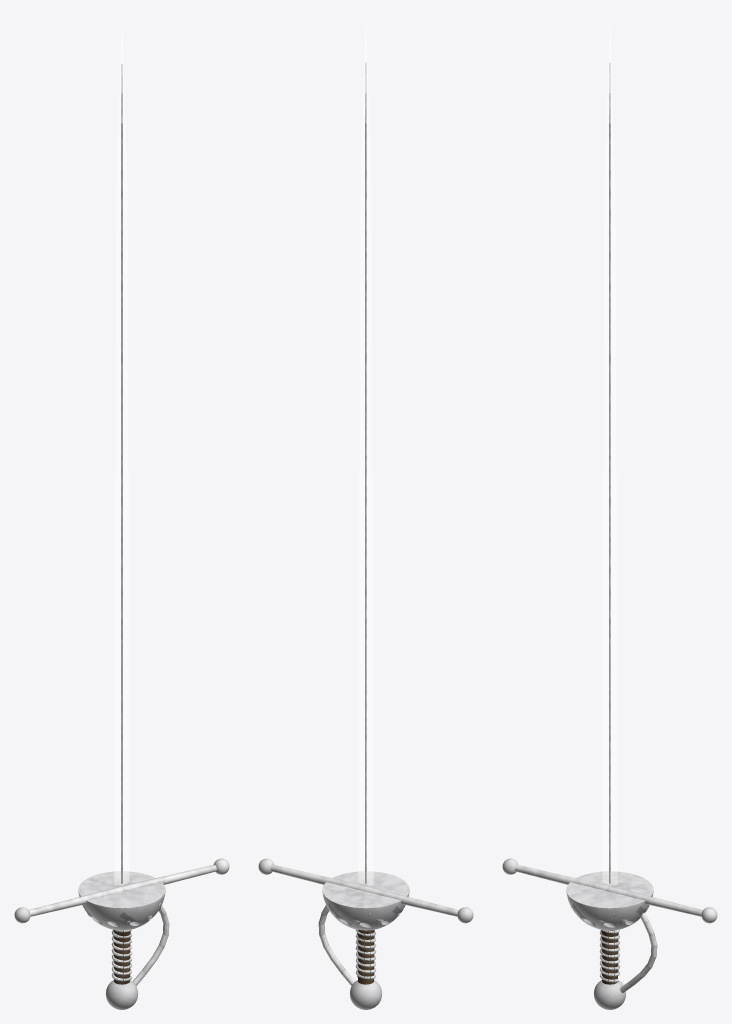
3 views of the same model, side by side, from view 1: azimuth 30°, elevation 25°; view 2: azimuth 150°, elevation 25°; view 3: azimuth 330°, elevation 25° (orthographic).
Parts seen in each view (by area): view 1: ghost_blade, metal_silver, leather_dark; view 2: ghost_blade, metal_silver, leather_dark; view 3: ghost_blade, metal_silver, leather_dark.
Boxes of the visible parts, <box> form: ghost_blade: <box>114,17,129,884</box>; metal_silver: <box>14,64,229,1009</box>; leather_dark: <box>113,930,130,984</box>; ghost_blade: <box>358,29,373,884</box>; metal_silver: <box>258,63,473,1009</box>; leather_dark: <box>357,930,374,984</box>; ghost_blade: <box>602,29,617,884</box>; metal_silver: <box>502,63,717,1009</box>; leather_dark: <box>601,930,618,984</box>.
Bounding box in the file's own units: 0.364 × 1.62 × 0.1293.
Materials: 3 (2 with a texture image).
